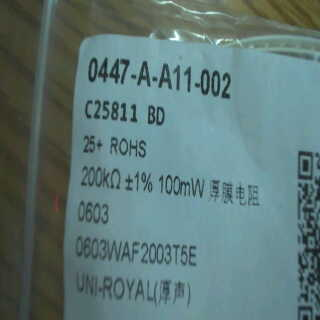200kR: (73, 165, 125, 194)
